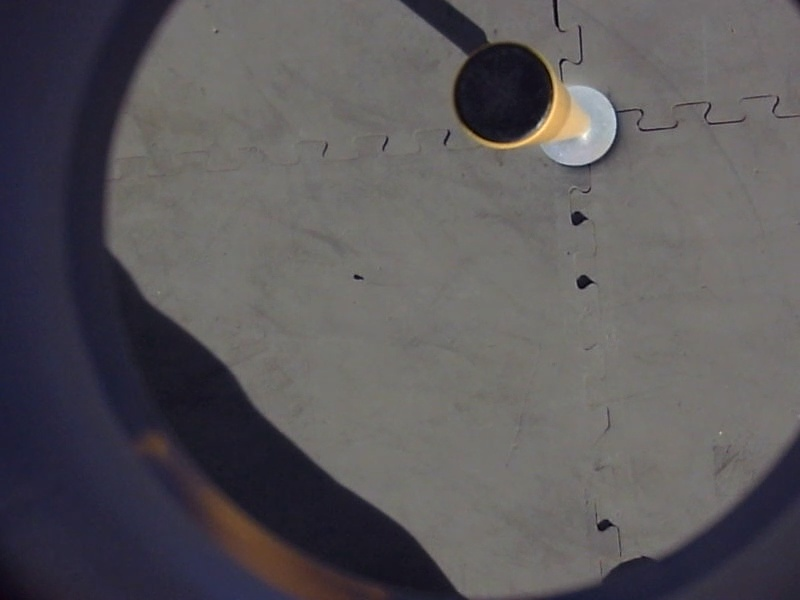tip: (445, 36, 564, 156)
